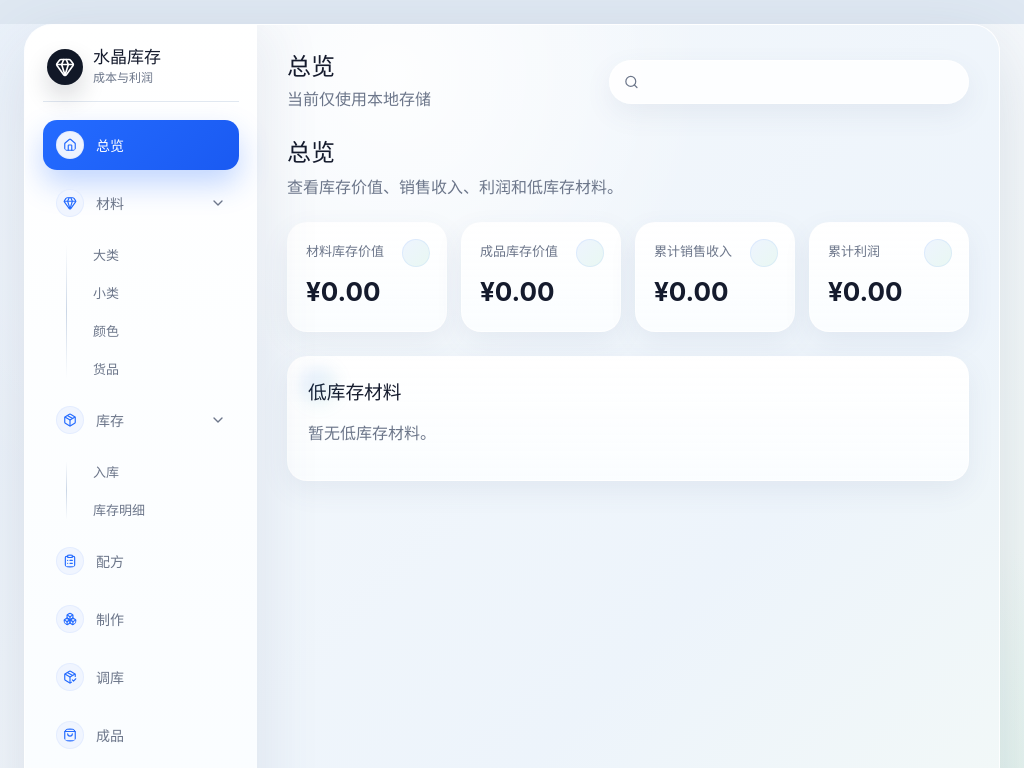
Test: App navigation › renames purchases to inventory and expands inventory child pages
The width and height of the screenshot is (1024, 768).
Check: the button "库存" is shown, box [43,395,239,445]
Check: the button "入库" is shown, box [81,455,239,488]
Click the button "库存明细". click: (160, 510)
box: [81,493,239,526]
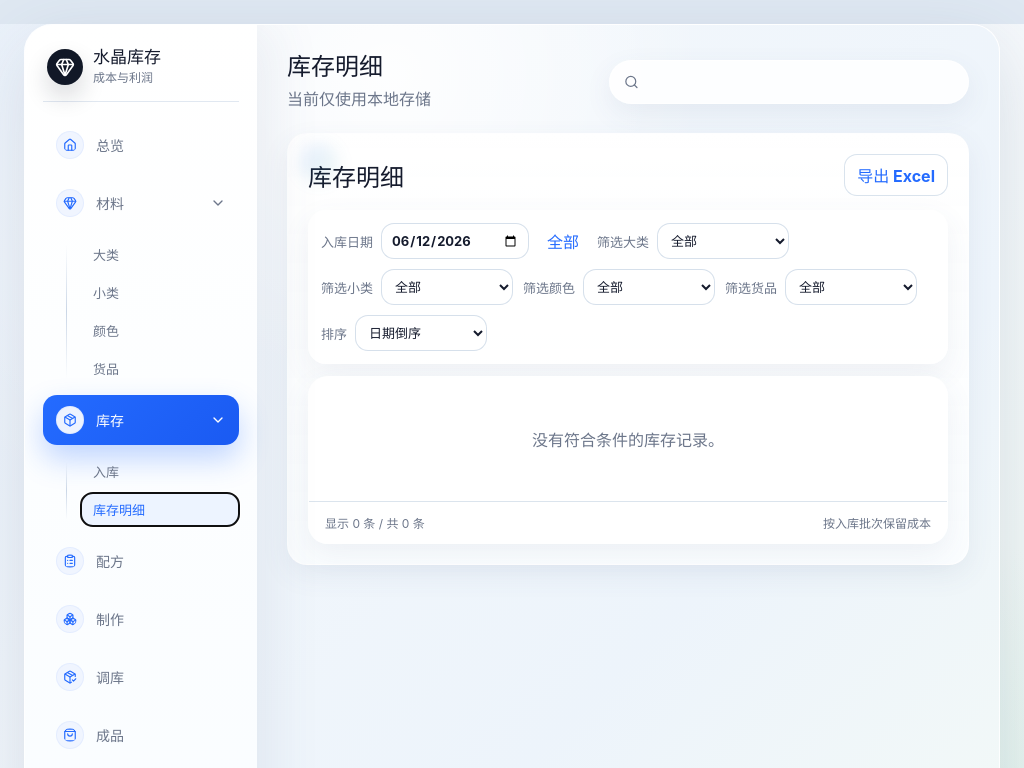
Check: the 1st heading "库存明细" is shown, box [287,52,383,81]
